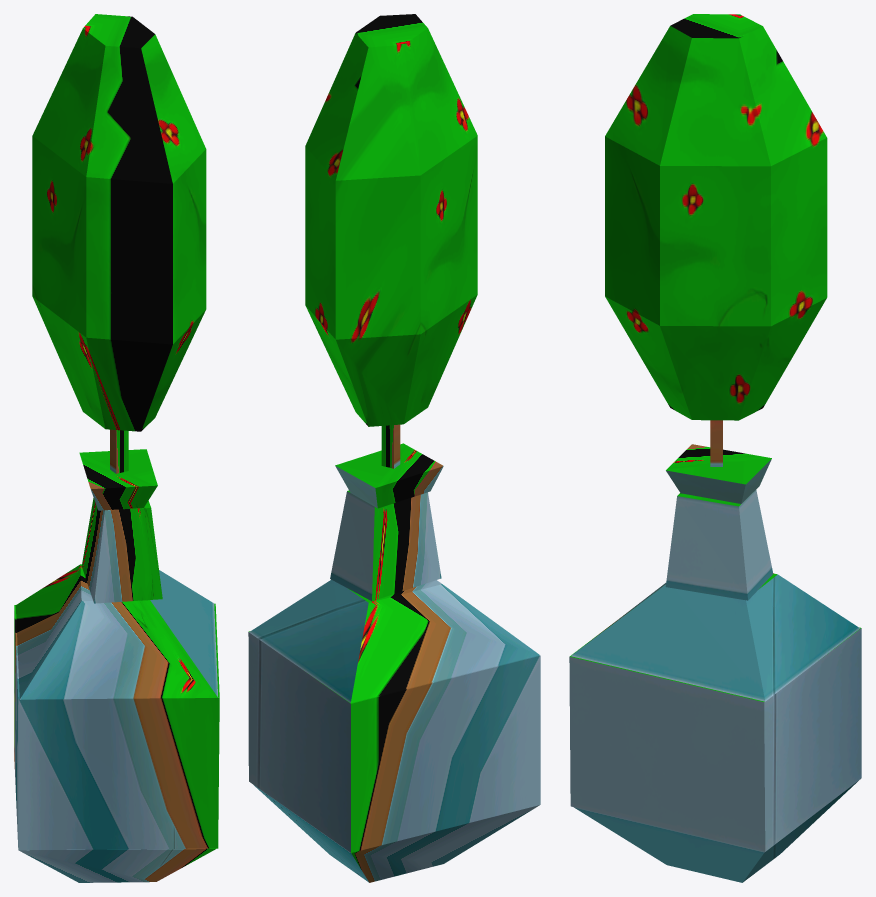
Rendered from Plant.glb.
3 views of the same model, side by side, from view 1: azimuth 30°, elevation 25°; view 2: azimuth 150°, elevation 25°; view 3: azimuth 270°, elevation 25° (orthographic).
Visible parts, largest first — view 1: Plant; view 2: Plant; view 3: Plant.
Part boxes in pixels (<box>): Plant: <box>14,14,219,882</box>; Plant: <box>248,14,540,882</box>; Plant: <box>569,14,861,882</box>.
Bounding box in the file's own units: 25.44 × 82.49 × 26.22.
Materials: 1 (1 with a texture image).
